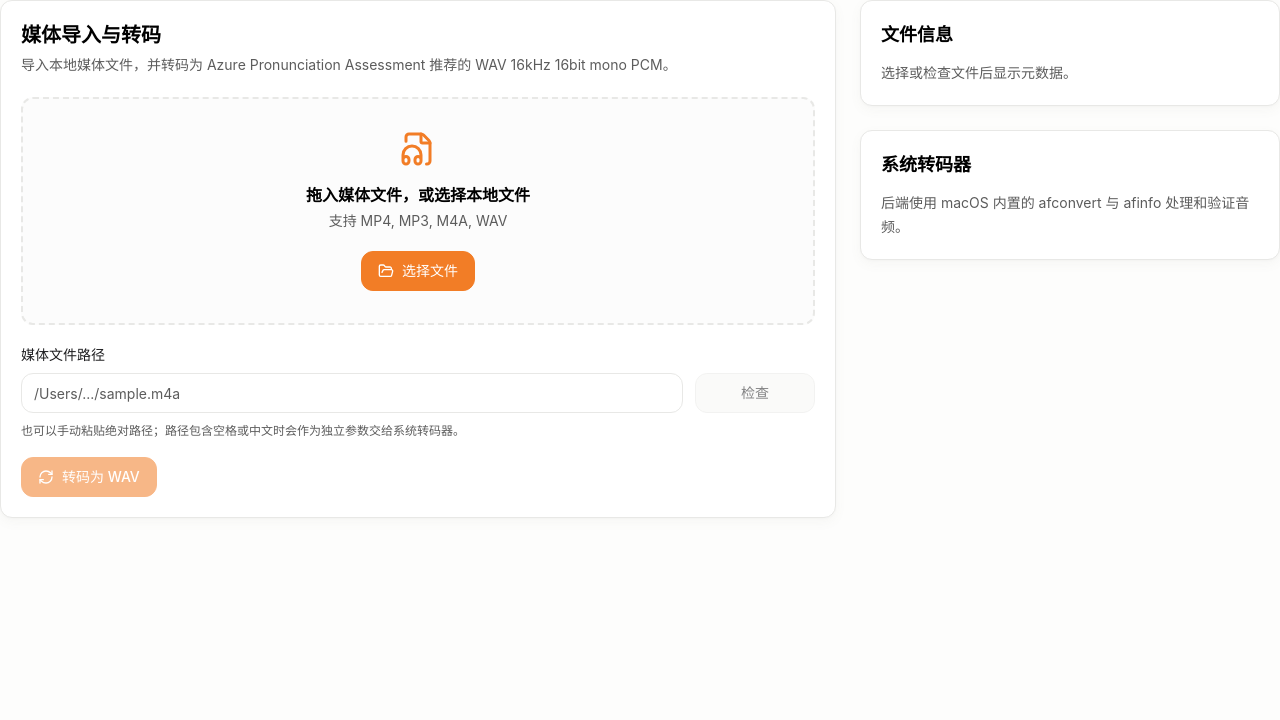
it: MediaPage › loads metadata for a selected media file
The width and height of the screenshot is (1280, 720).
What coordinates should you click on to do the following:
click the button "选择文件"
I would click on:
 (418, 271)
Its box is [361, 251, 475, 291].
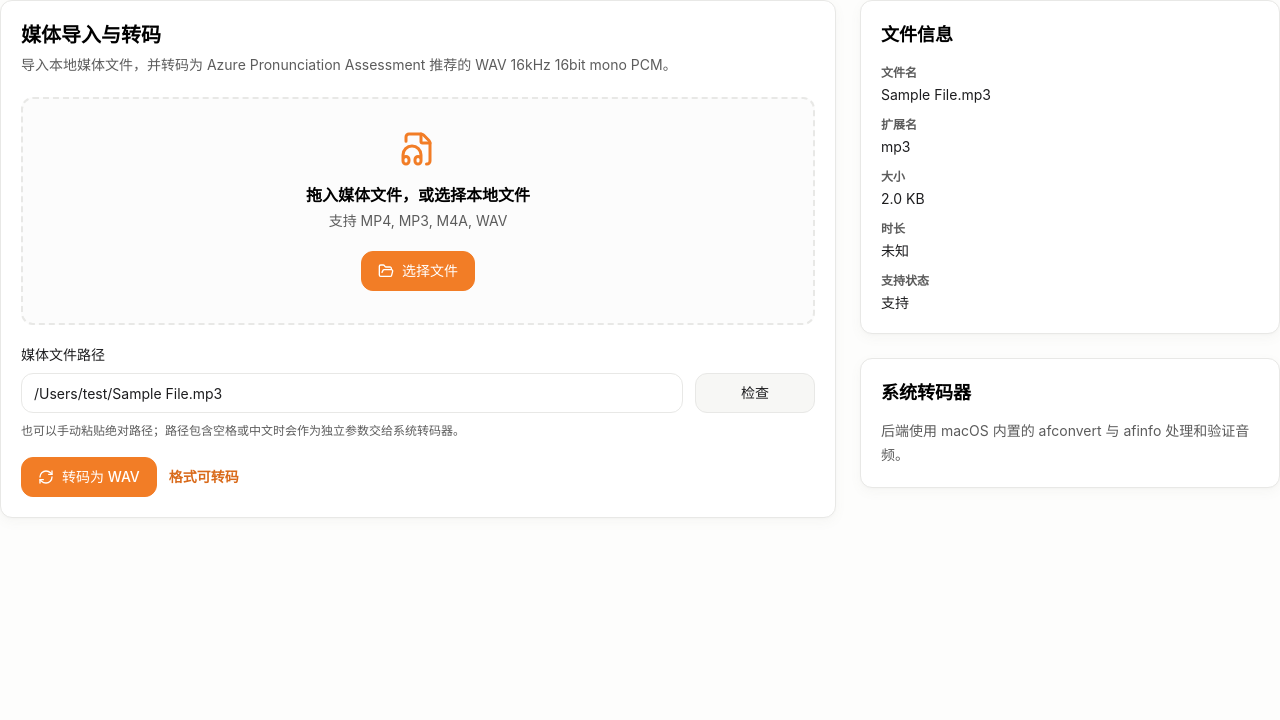
Expected: the text "Sample File.mp3" is shown, [881, 86, 991, 103]
Expected: the text "格式可转码" is shown, [169, 467, 239, 487]
